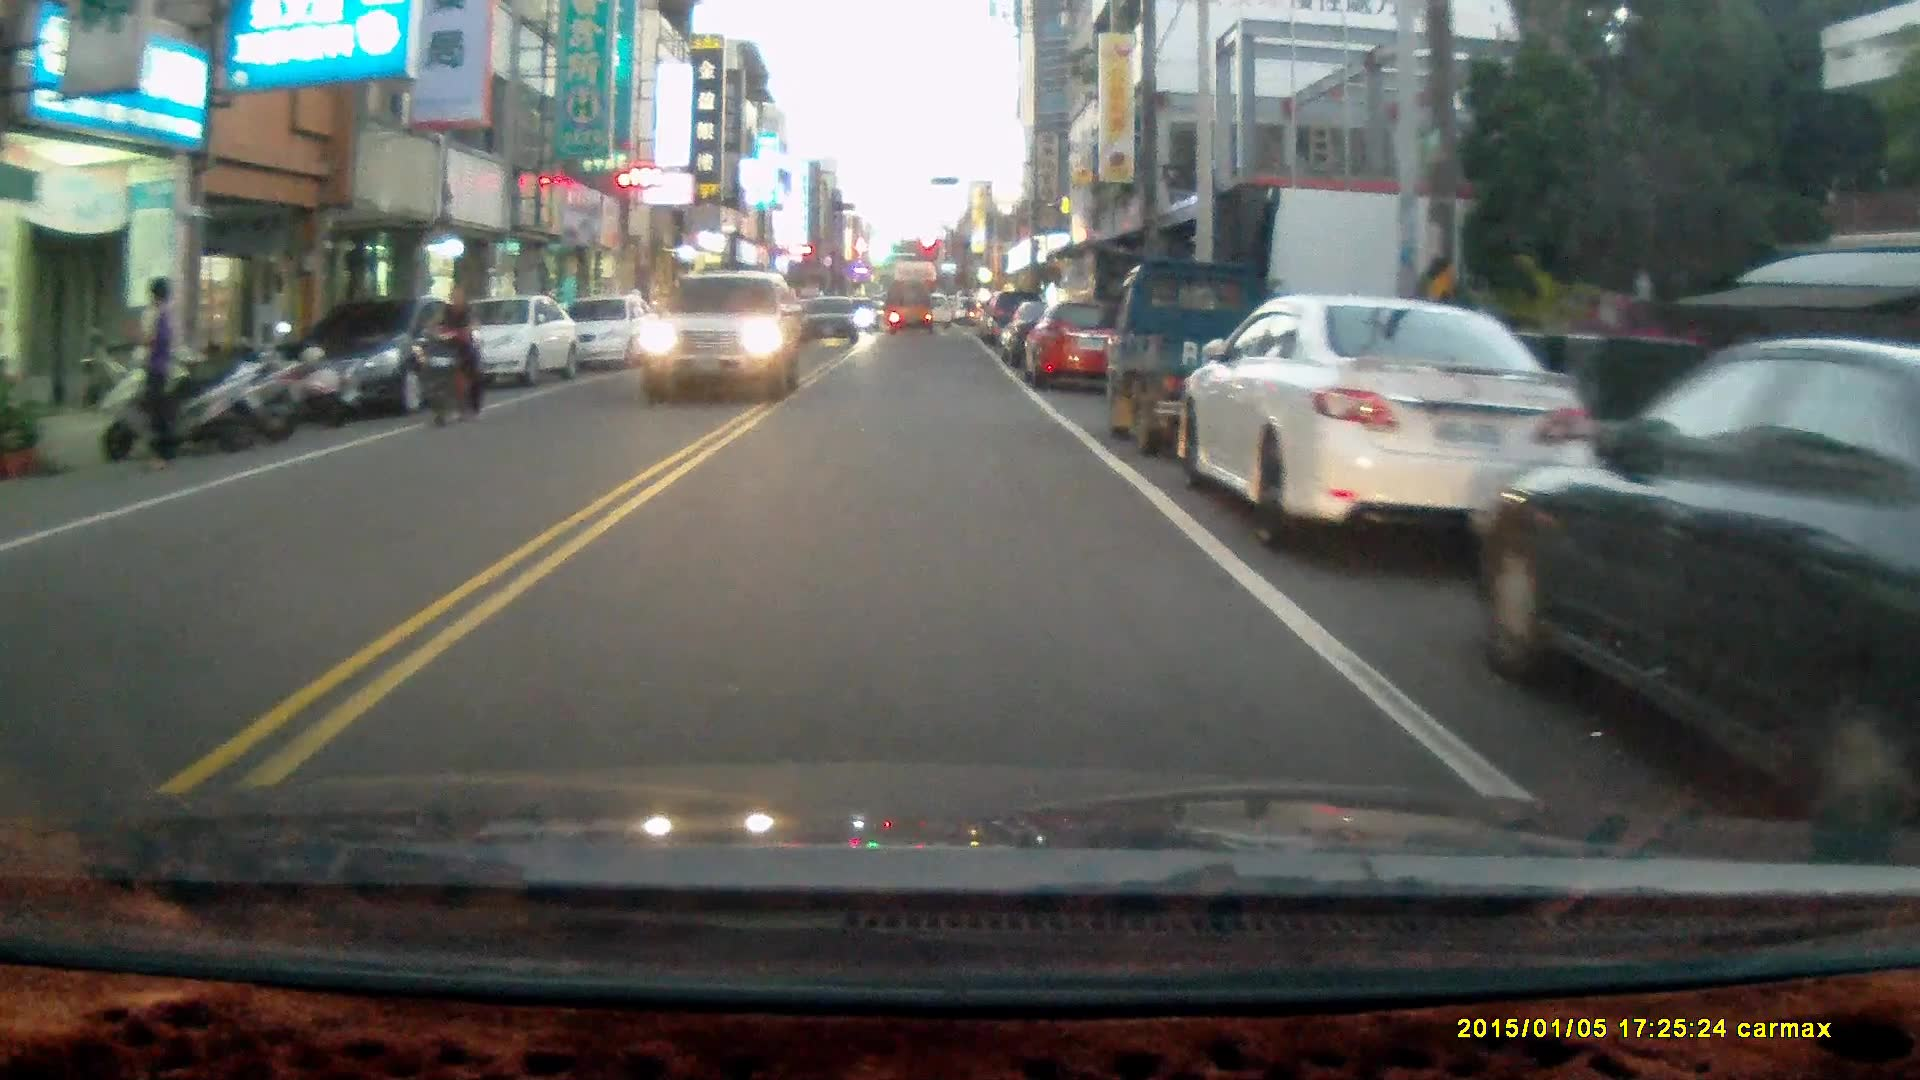pedestrian: (118, 273, 175, 473)
rider: (421, 277, 484, 424)
vehicle: (1481, 334, 1920, 857), (1179, 295, 1598, 549), (1104, 254, 1303, 461), (272, 285, 478, 412), (633, 271, 802, 402), (1026, 295, 1120, 393), (557, 298, 660, 371), (797, 296, 862, 349), (885, 278, 938, 335)
